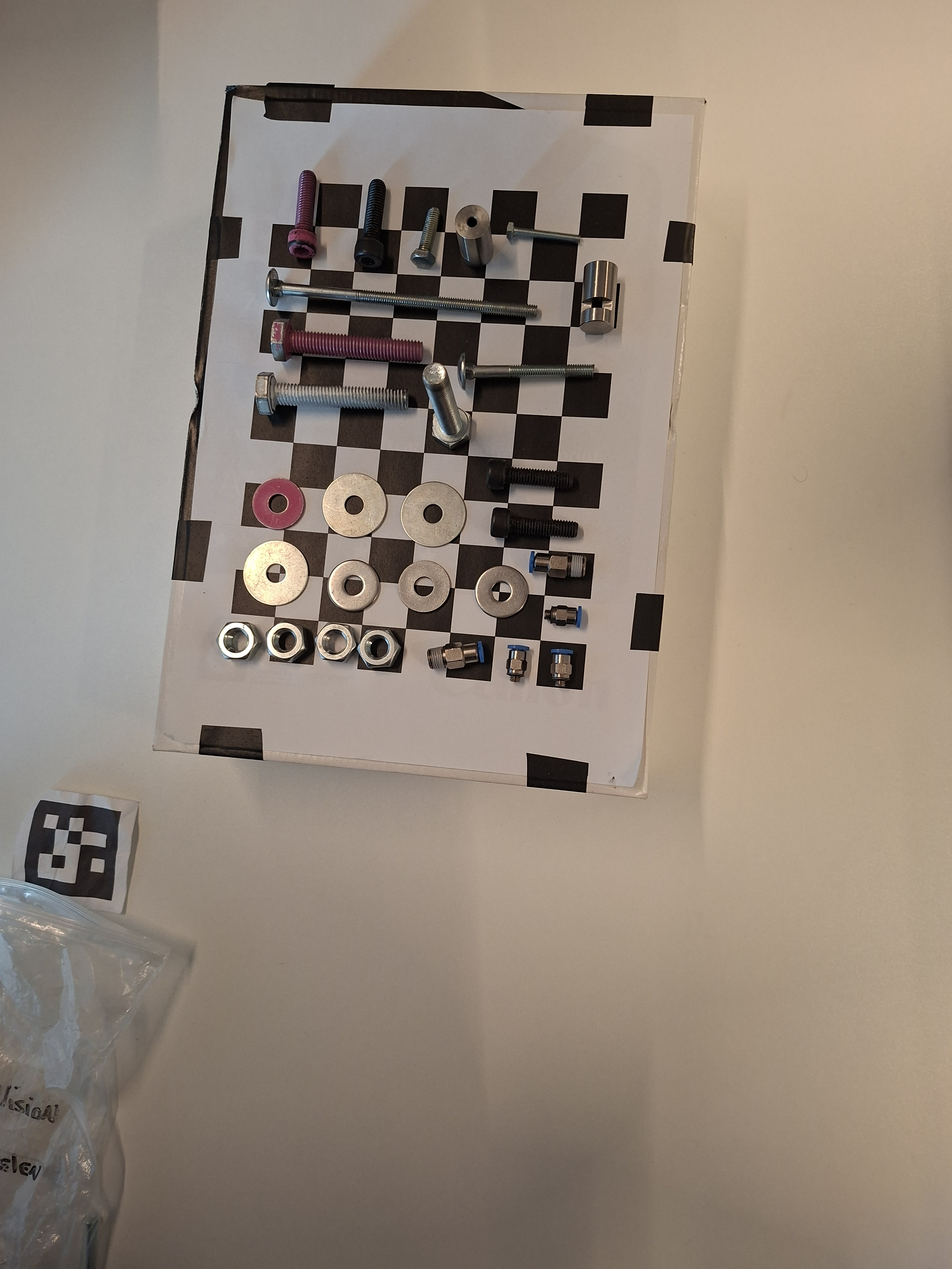allen_screw: (479, 452, 583, 506), (347, 175, 400, 270), (483, 504, 590, 551), (281, 167, 327, 263)
barrel_nut: (579, 256, 624, 339), (452, 201, 500, 272)
carriage_bolt: (260, 263, 546, 340), (452, 348, 599, 393)
hex_bolt: (264, 314, 432, 379), (252, 369, 409, 425), (399, 357, 483, 458), (401, 203, 452, 275), (502, 217, 588, 251)
hex_nut: (254, 613, 318, 672), (310, 617, 367, 670), (354, 624, 404, 674), (213, 619, 262, 665)
pneumatic_fitting: (421, 635, 489, 677), (526, 547, 589, 582), (544, 645, 580, 691), (499, 642, 535, 686), (539, 600, 588, 632)
washer: (312, 466, 397, 544), (233, 534, 319, 610), (398, 479, 472, 551), (469, 560, 539, 623), (244, 474, 312, 534), (323, 555, 390, 613), (393, 557, 457, 617)
